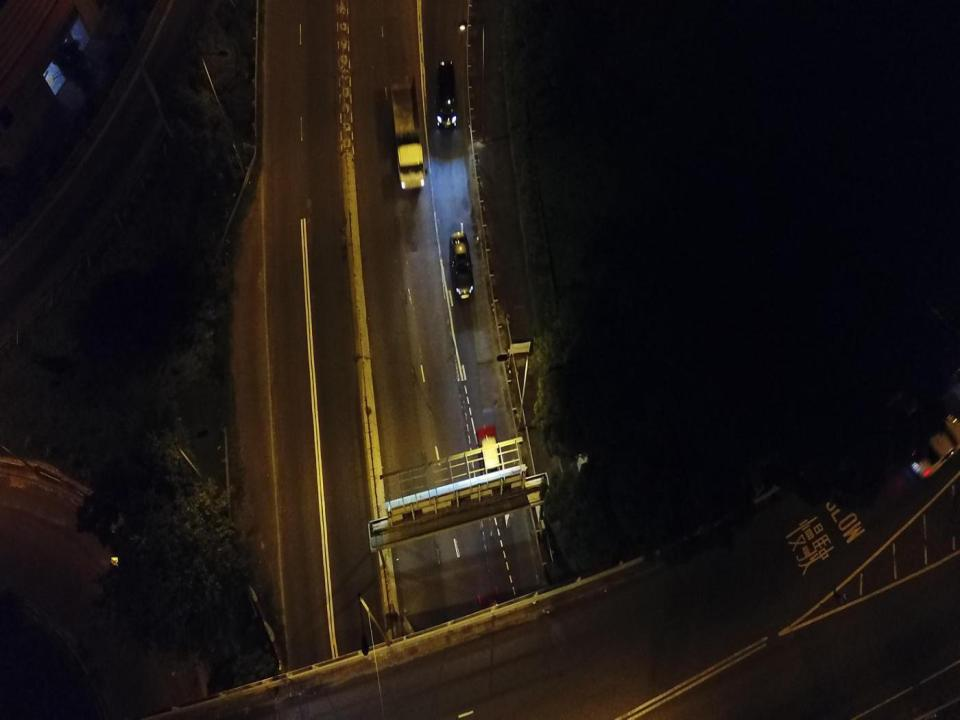car: (909, 425, 955, 482), (476, 426, 506, 497), (447, 231, 474, 304), (434, 57, 459, 128)
truck: (384, 73, 427, 186)
